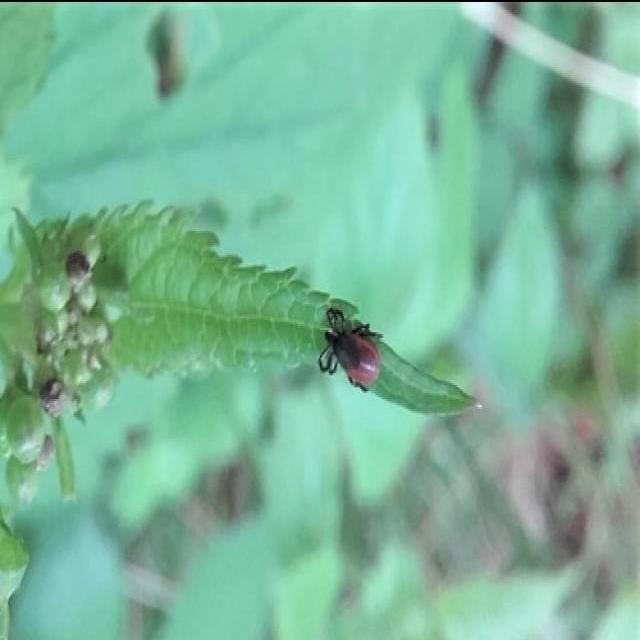Ixodes Ricinus-F: (319, 296, 383, 389)
